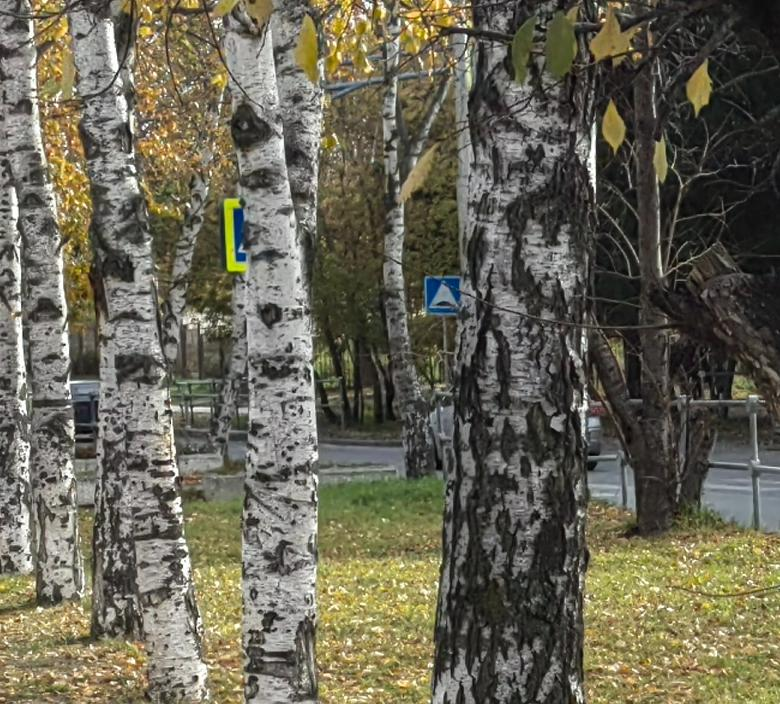obstructed_road_sign: (224, 198, 247, 271)
road_sign: (425, 276, 461, 313)
